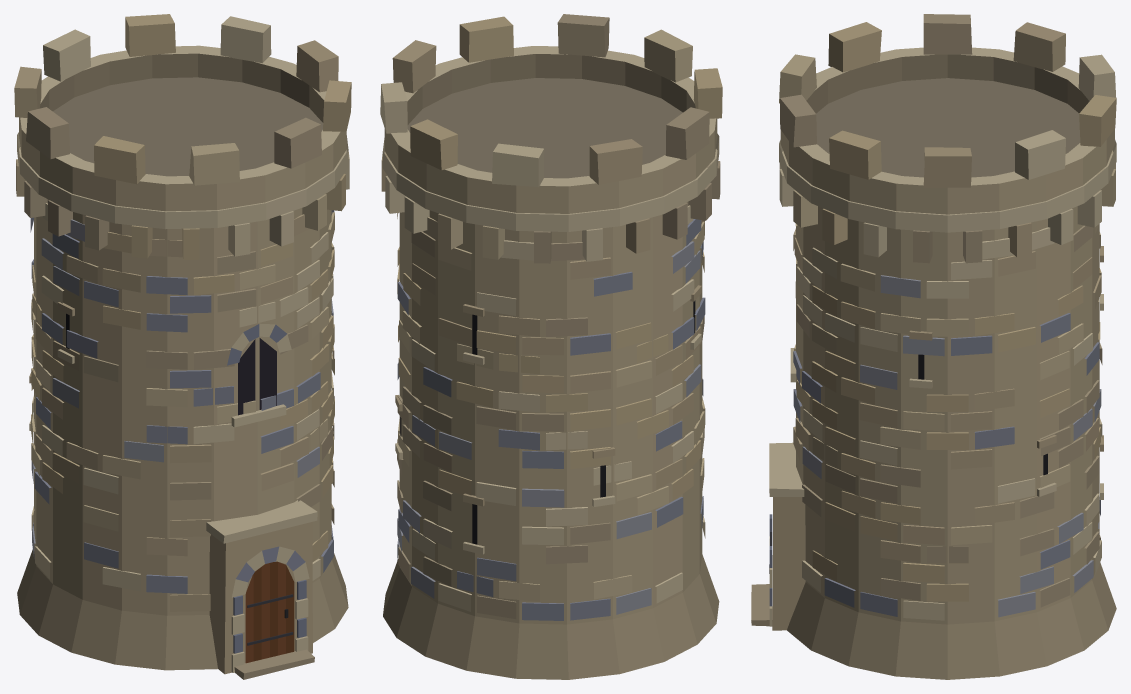
The model's file is town_keep.glb.
The picture shows the model from 3 angles, left to right: view 1: azimuth 30°, elevation 25°; view 2: azimuth 150°, elevation 25°; view 3: azimuth 270°, elevation 25°; orthographic projection.
Parts seen in each view (by area): view 1: town_keep; view 2: town_keep; view 3: town_keep.
Part boxes in pixels (x1=…): town_keep: x1=14, y1=14, x2=351, y2=679; town_keep: x1=380, y1=14, x2=722, y2=679; town_keep: x1=751, y1=14, x2=1116, y2=679.
Bounding box in the file's own units: 8.94 × 15.24 × 9.63.
